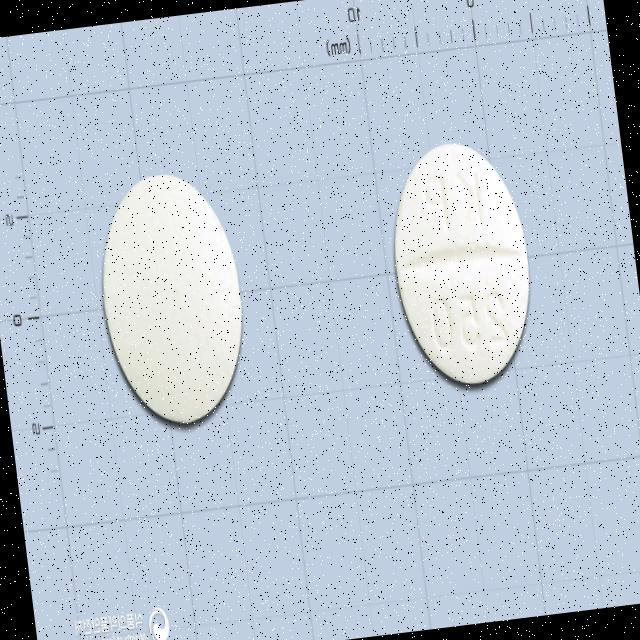Kipocin: (87, 165, 255, 434), (379, 134, 541, 392)
